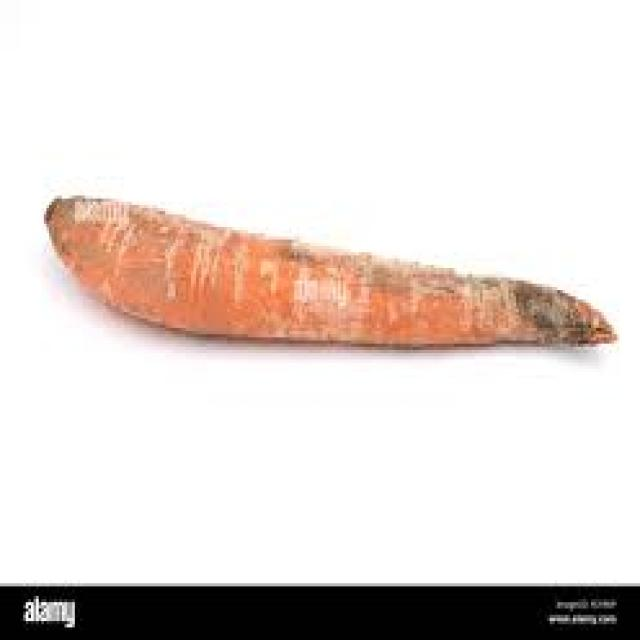Stale_Carrot: (45, 199, 615, 346)
